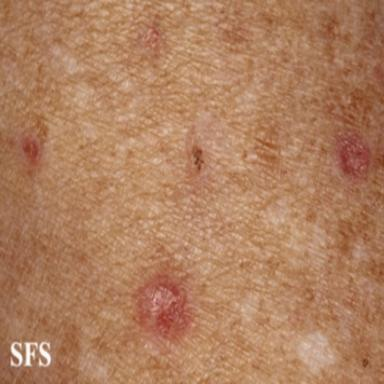Porokeratosis: (137, 275, 191, 338), (336, 134, 371, 178), (138, 22, 163, 54), (23, 136, 40, 164)
